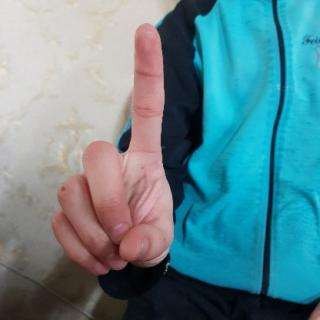BAA: (45, 19, 186, 286)
